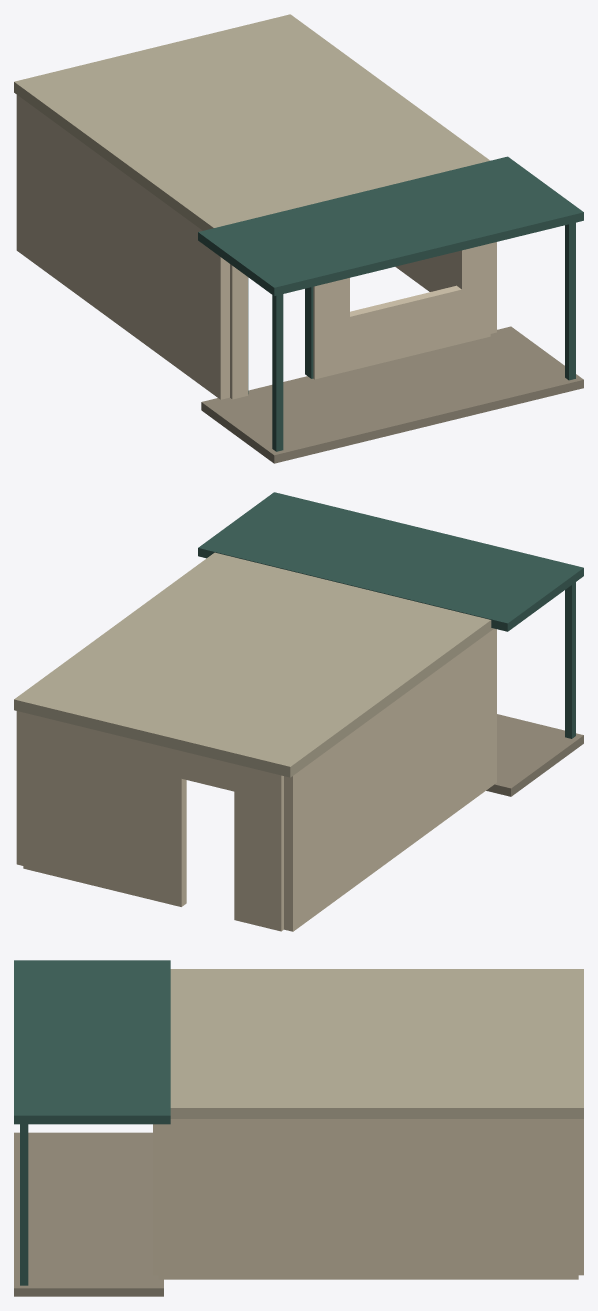
Rendered from SM_Town_Motel_Room6Shell_LOD2.fbx.
3 renders of one model, top to bottom at view 1: azimuth 30°, elevation 25°; view 2: azimuth 150°, elevation 25°; view 3: azimuth 270°, elevation 25°, orthographic. The views are drawn at different scales.
Visible parts, largest first — view 1: SM_Town_Motel_Room6Shell_LOD2; view 2: SM_Town_Motel_Room6Shell_LOD2; view 3: SM_Town_Motel_Room6Shell_LOD2.
Boxes of the visible parts, x1,y1,x2,y2 form: SM_Town_Motel_Room6Shell_LOD2: (14, 14, 583, 463); SM_Town_Motel_Room6Shell_LOD2: (14, 492, 583, 931); SM_Town_Motel_Room6Shell_LOD2: (14, 960, 583, 1296).
Bounding box in the file's own units: 5.4 × 8.36 × 2.93.
